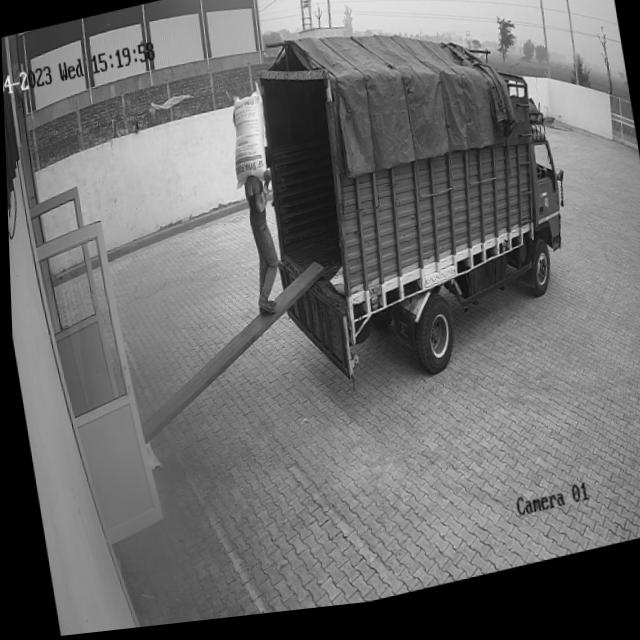sack: (218, 86, 273, 197)
